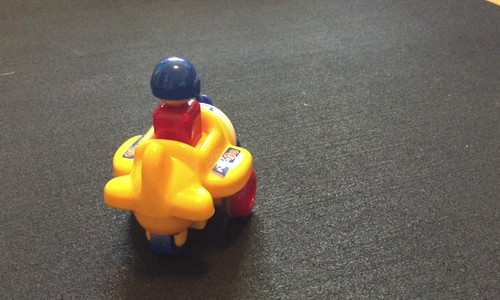toy: (103, 54, 263, 255)
